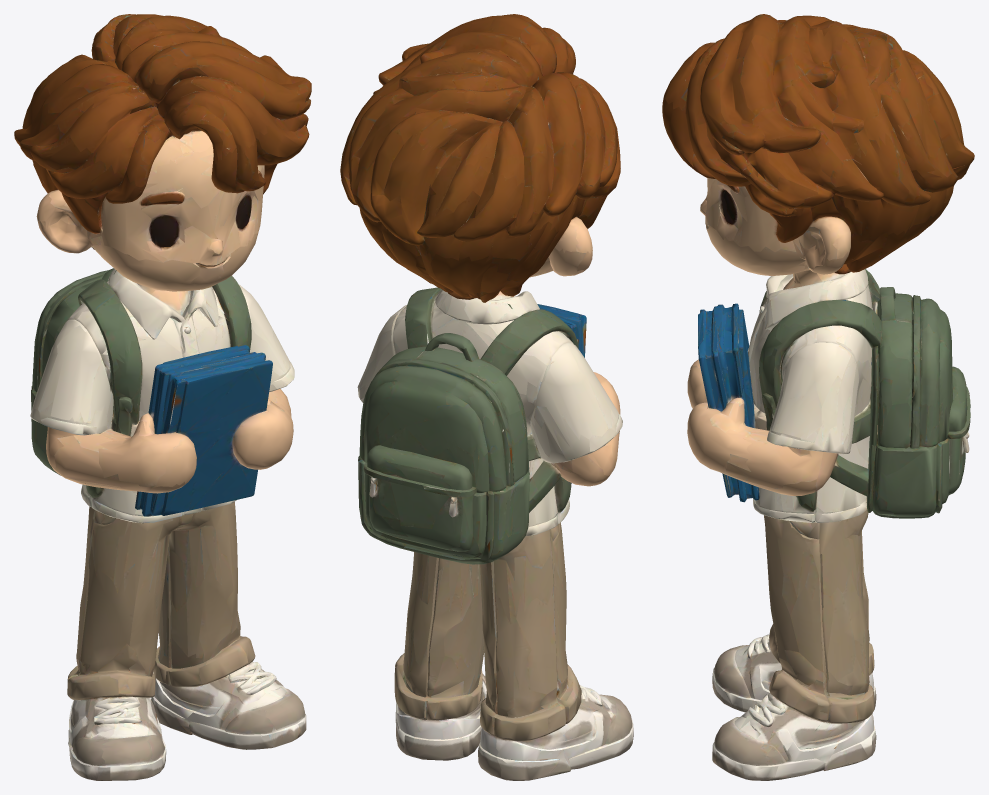
Rendered from upm_mv3pqlhk1nz.glb.
The picture shows the model from 3 angles, left to right: view 1: azimuth 30°, elevation 25°; view 2: azimuth 150°, elevation 25°; view 3: azimuth 270°, elevation 25°; orthographic projection.
Size of the model in its own units: 0.6997 by 1.9 by 0.7579.
1 material, 1 textured.
